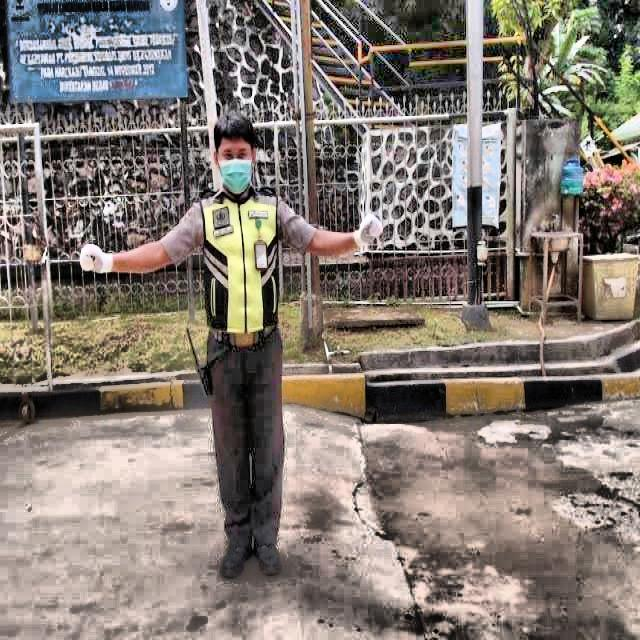safety_jacket: (193, 187, 290, 335)
